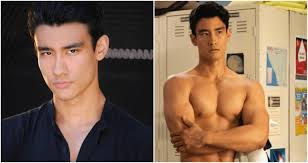asian_male: (24, 2, 113, 102)
